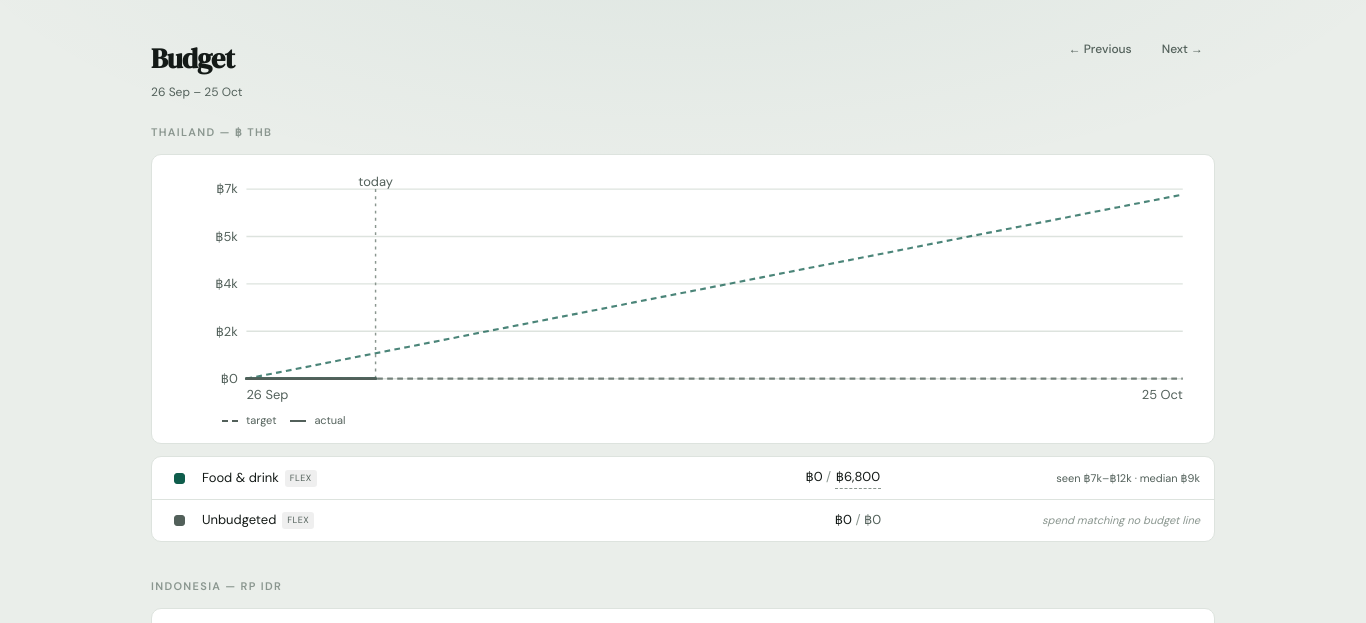
Test: hides a line from the chart when its swatch is toggled off
The image size is (1366, 623).
Click the button named "Hide Food & drink" at coordinates (179, 478), box x1=166 y1=473 x2=192 y2=484
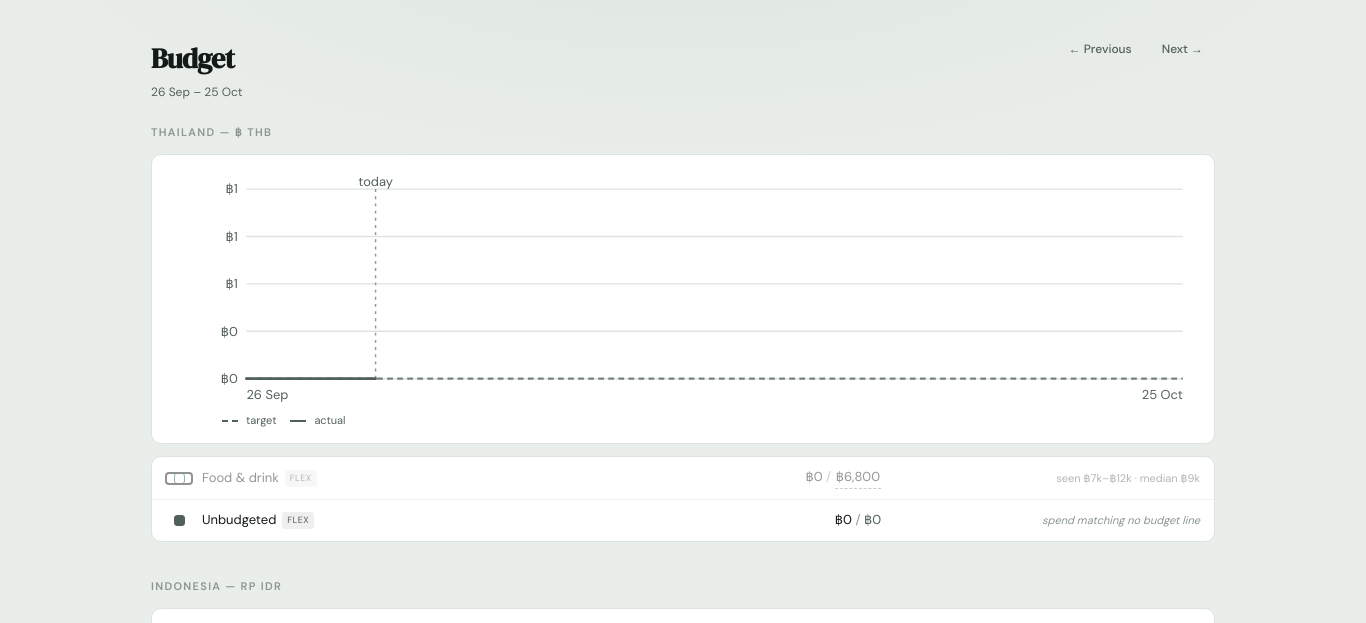
Result: the button named "Show Food & drink" is shown at x1=166 y1=473 x2=192 y2=484
